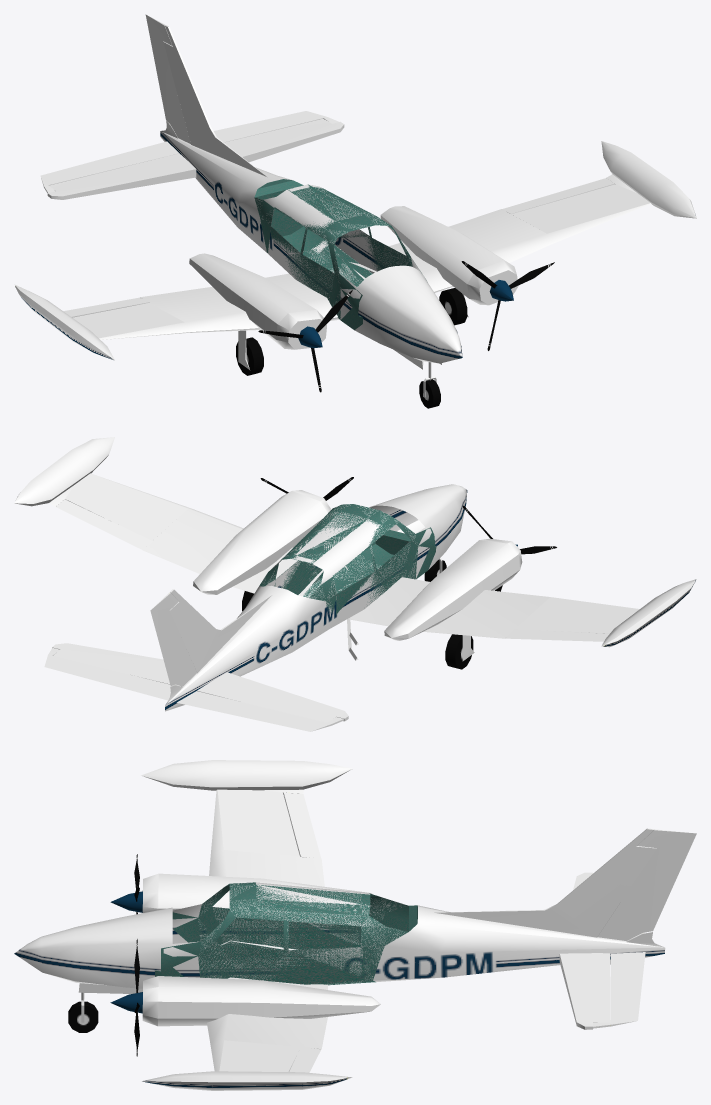
3 views of the same model, one above another, from view 1: azimuth 30°, elevation 25°; view 2: azimuth 150°, elevation 25°; view 3: azimuth 270°, elevation 25° (orthographic). The views are drawn at different scales.
Visible parts, largest first — view 1: body, wing_right_inner, wing_left_inner, wing_left_outer, fuselage_rear, wing_right_outer, stab, elevator, fin, rudder, gear_retract_right, aileron_left (+5 smaller); view 2: wing_right_inner, body, wing_left_inner, wing_left_outer, fuselage_rear, wing_right_outer, stab, elevator, fin, rudder, aileron_left, gear_retract_right (+1 smaller); view 3: wing_left_inner, fuselage_rear, body, wing_right_outer, wing_right_inner, wing_left_outer, fin, rudder, stab, elevator, aileron_right, gear_retract_nose (+1 smaller).
Boxes of the visible parts, box(x1,y1,x2,y2) form: body: box(270, 186, 500, 363); wing_right_inner: box(164, 229, 381, 349); wing_left_inner: box(334, 206, 525, 305); wing_left_outer: box(473, 141, 696, 255); fuselage_rear: box(160, 128, 392, 257); wing_right_outer: box(14, 284, 216, 360); stab: box(47, 118, 344, 199); elevator: box(40, 111, 338, 192); fin: box(160, 25, 211, 178); rudder: box(145, 14, 190, 143); gear_retract_right: box(236, 330, 263, 375); aileron_left: box(502, 178, 614, 213); wing_right_inner: box(336, 522, 523, 640); body: box(275, 484, 467, 624); wing_left_inner: box(170, 490, 386, 597); wing_left_outer: box(14, 437, 220, 560); fuselage_rear: box(165, 555, 398, 711); wing_right_outer: box(479, 579, 696, 647); stab: box(52, 643, 348, 722); elevator: box(44, 648, 343, 731); fin: box(165, 589, 228, 705); rudder: box(150, 592, 196, 686); aileron_left: box(56, 499, 152, 549); gear_retract_right: box(347, 617, 474, 669); wing_left_inner: box(110, 917, 380, 1038); fuselage_rear: box(361, 892, 665, 982); body: box(14, 882, 361, 988); wing_right_outer: box(141, 760, 352, 875); wing_right_inner: box(111, 865, 372, 950); wing_left_outer: box(142, 1028, 352, 1090); fin: box(556, 828, 664, 962); rudder: box(598, 829, 696, 940); stab: box(559, 872, 610, 1029); elevator: box(593, 933, 645, 1028); aileron_right: box(283, 792, 321, 858); gear_retract_nose: box(68, 983, 142, 1032).
Bounding box in the file's own units: 10.66 × 3.15 × 9.65.
Materials: 4 (3 with a texture image).
